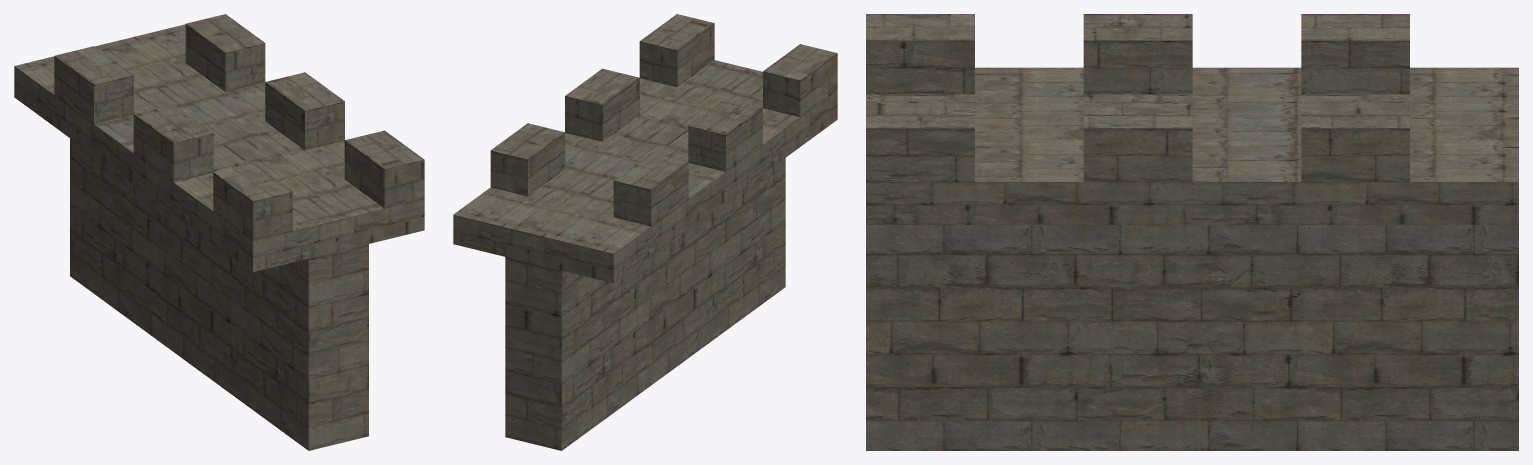
The model's file is StoneWall.fbx.
The picture shows the model from 3 angles, left to right: view 1: azimuth 30°, elevation 25°; view 2: azimuth 150°, elevation 25°; view 3: azimuth 270°, elevation 25°; orthographic projection. The views are drawn at different scales.
Visible parts, largest first — view 1: Cube.001, Cube; view 2: Cube.001, Cube; view 3: Cube, Cube.001.
Boxes of the visible parts, x1,y1,x2,y2 form: Cube.001: (14, 14, 424, 271); Cube: (70, 138, 368, 450); Cube.001: (453, 14, 837, 283); Cube: (505, 158, 785, 450); Cube: (866, 225, 1518, 450); Cube.001: (866, 14, 1518, 224).
Bounding box in the file's own units: 151 × 222 × 365.
